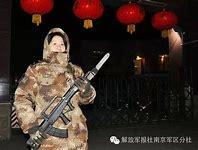gun: (24, 51, 110, 149)
